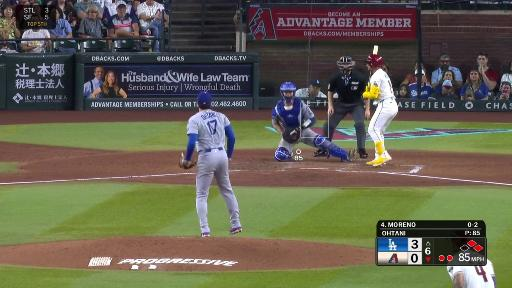pitcher: (180, 84, 242, 239)
